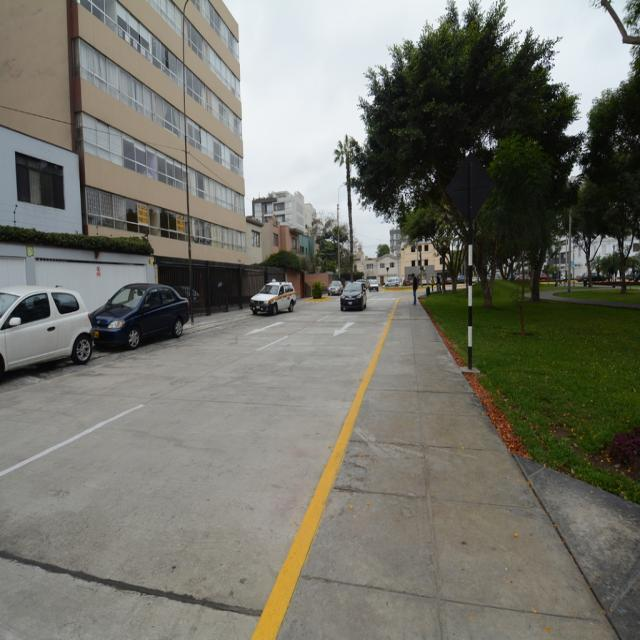car: (250, 278, 295, 313), (340, 279, 367, 308)
